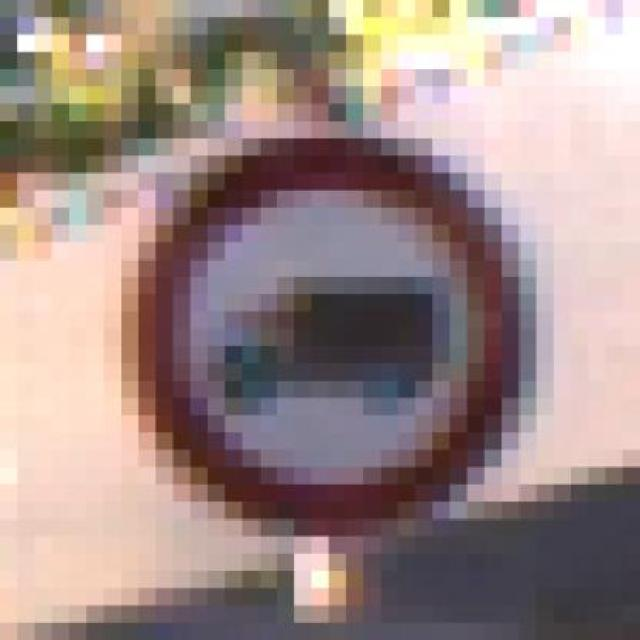Truck traffic is prohibited: (69, 138, 537, 536)
